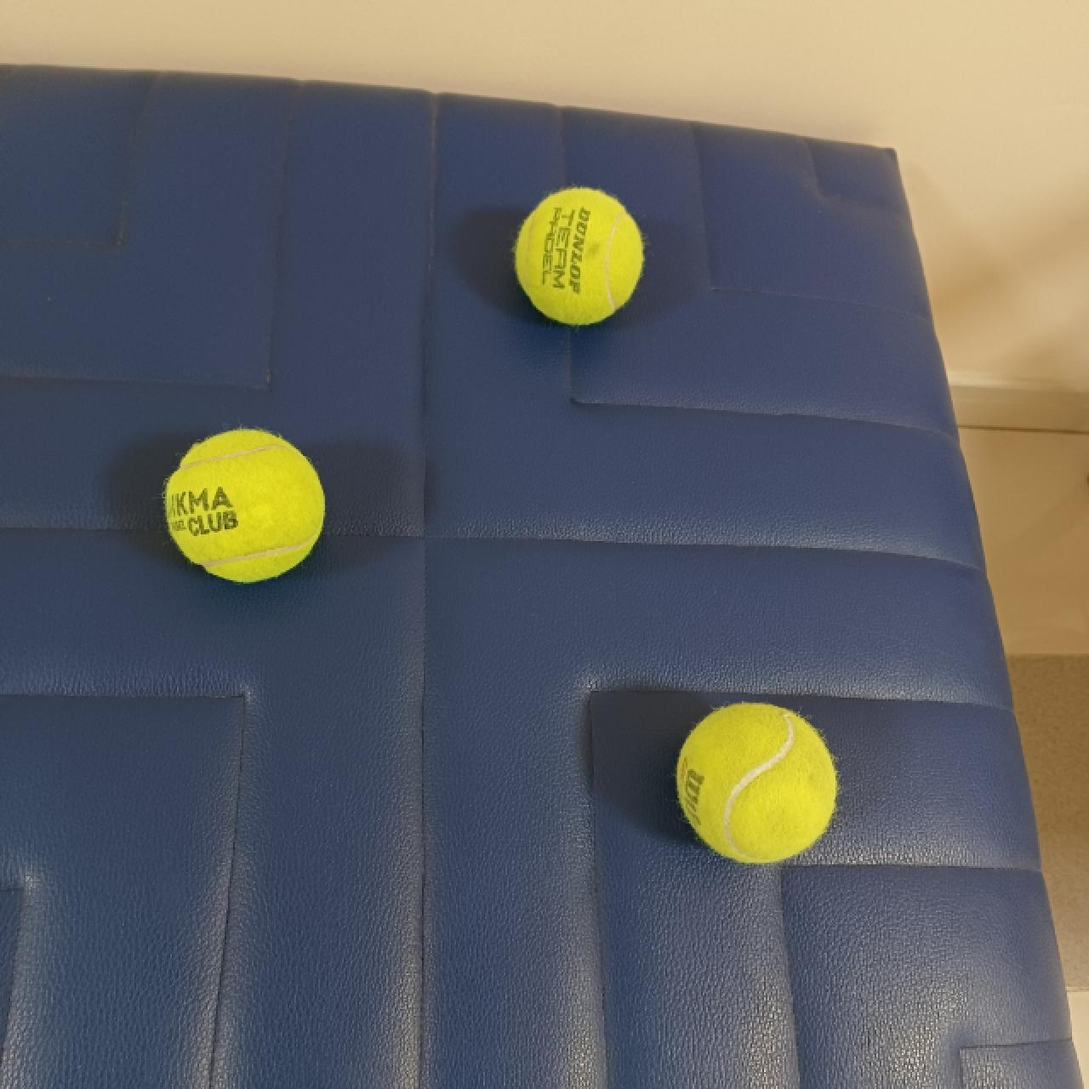tennis-ball: (671, 697, 841, 865), (161, 425, 328, 585), (509, 186, 648, 326)
